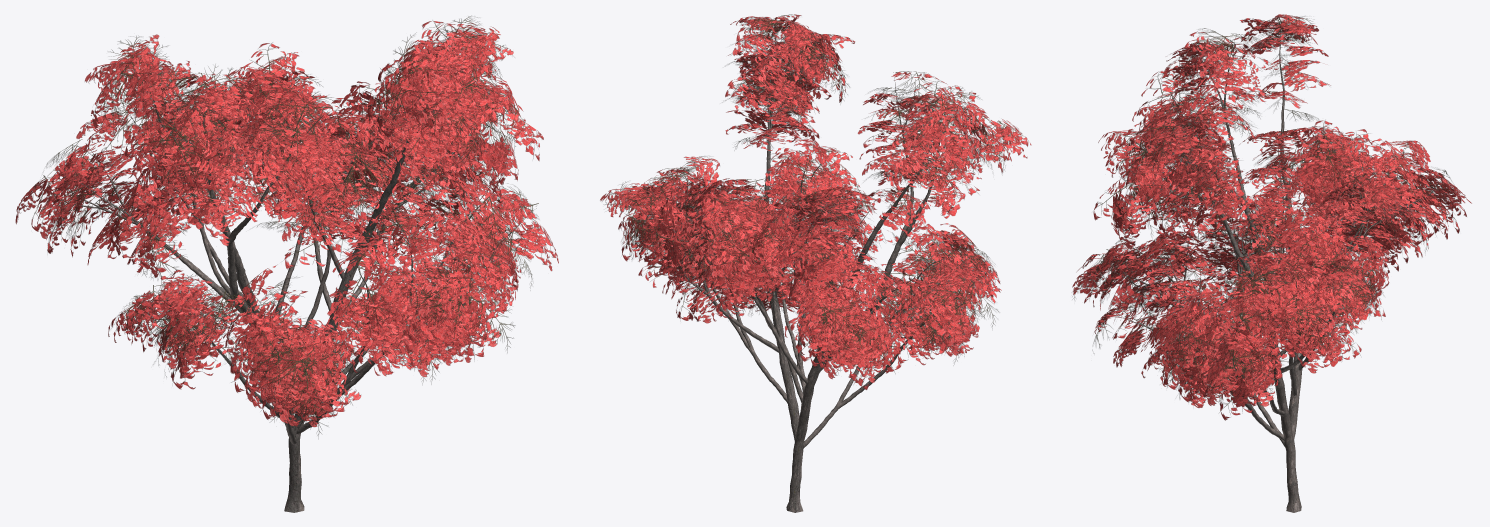
File: maple_tree.glb
The picture shows the model from 3 angles, left to right: view 1: azimuth 30°, elevation 25°; view 2: azimuth 150°, elevation 25°; view 3: azimuth 270°, elevation 25°; orthographic projection. The views are drawn at different scales.
Parts seen in each view (by area): view 1: MapleTree; view 2: MapleTree; view 3: MapleTree.
Boxes of the visible parts, box(x1,y1,x2,y2) form: MapleTree: box(15, 16, 558, 512); MapleTree: box(600, 14, 1031, 512); MapleTree: box(1072, 14, 1471, 512).
Size of the model in its own units: 143 by 157 by 135.
Materials: 2 (2 with a texture image).
